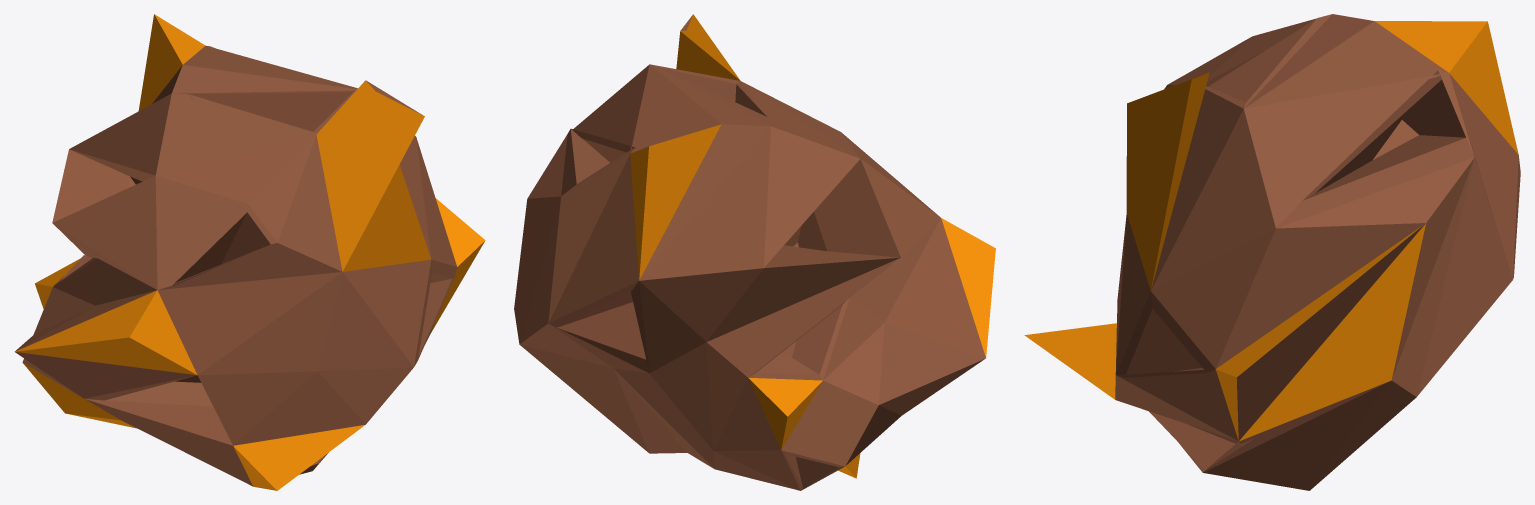
The model's file is AsteroidCristall2.fbx.
3 views of the same model, side by side, from view 1: azimuth 30°, elevation 25°; view 2: azimuth 150°, elevation 25°; view 3: azimuth 270°, elevation 25° (orthographic). The views are drawn at different scales.
Parts seen in each view (by area): view 1: AsteroidCristall2; view 2: AsteroidCristall2; view 3: AsteroidCristall2.
Boxes of the visible parts, x1,y1,x2,y2 form: AsteroidCristall2: [14, 14, 485, 490]; AsteroidCristall2: [514, 14, 995, 490]; AsteroidCristall2: [1024, 14, 1520, 490].
Size of the model in its own units: 9.43 by 7.44 by 7.75.
